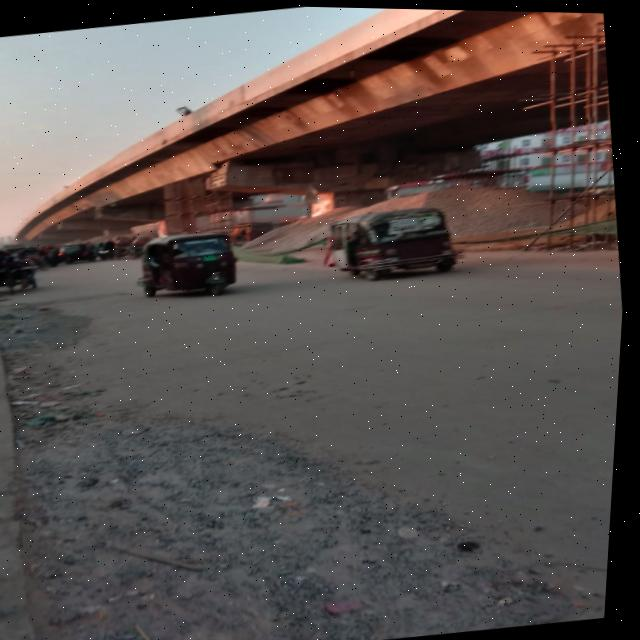cng: (329, 179, 478, 297), (117, 224, 231, 317)
